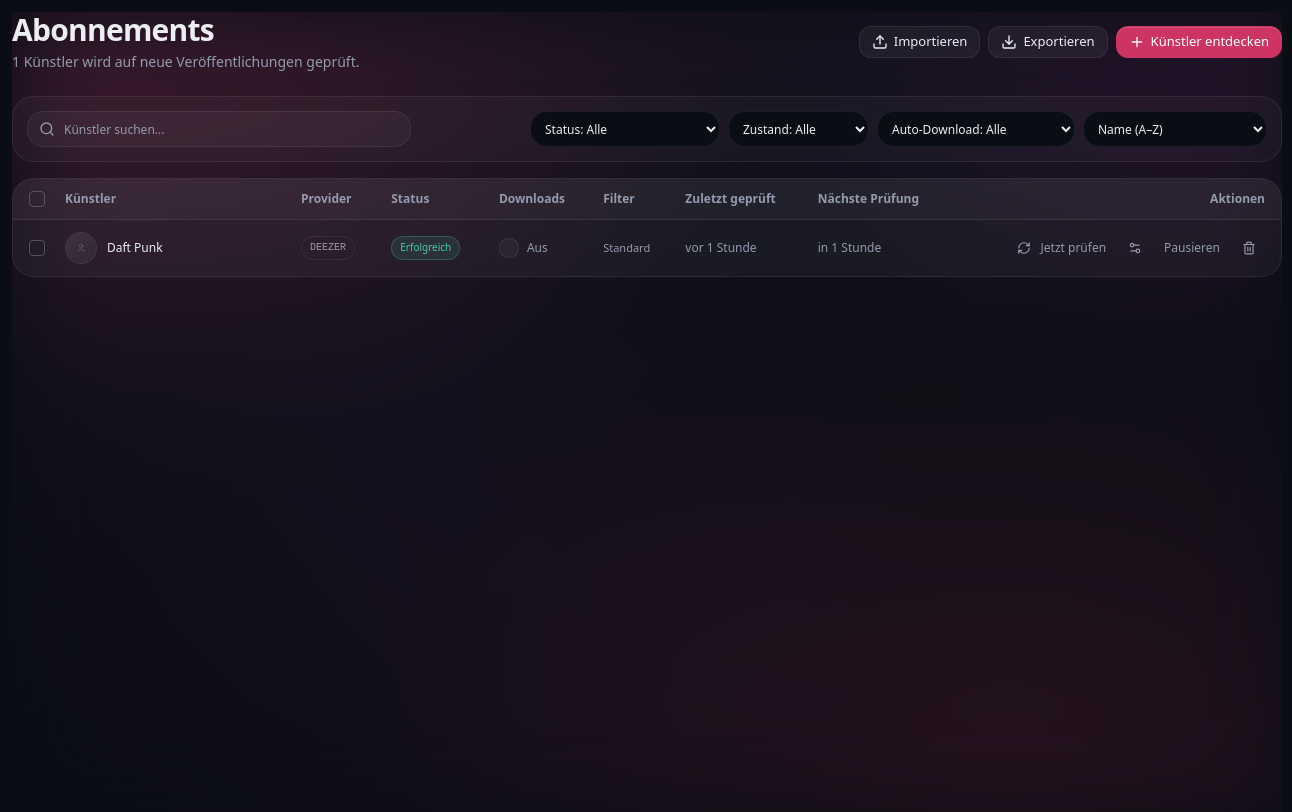
Test: Subscriptions page › switches auto download on
Click the checkbox at (509, 248), box [499, 238, 519, 258]
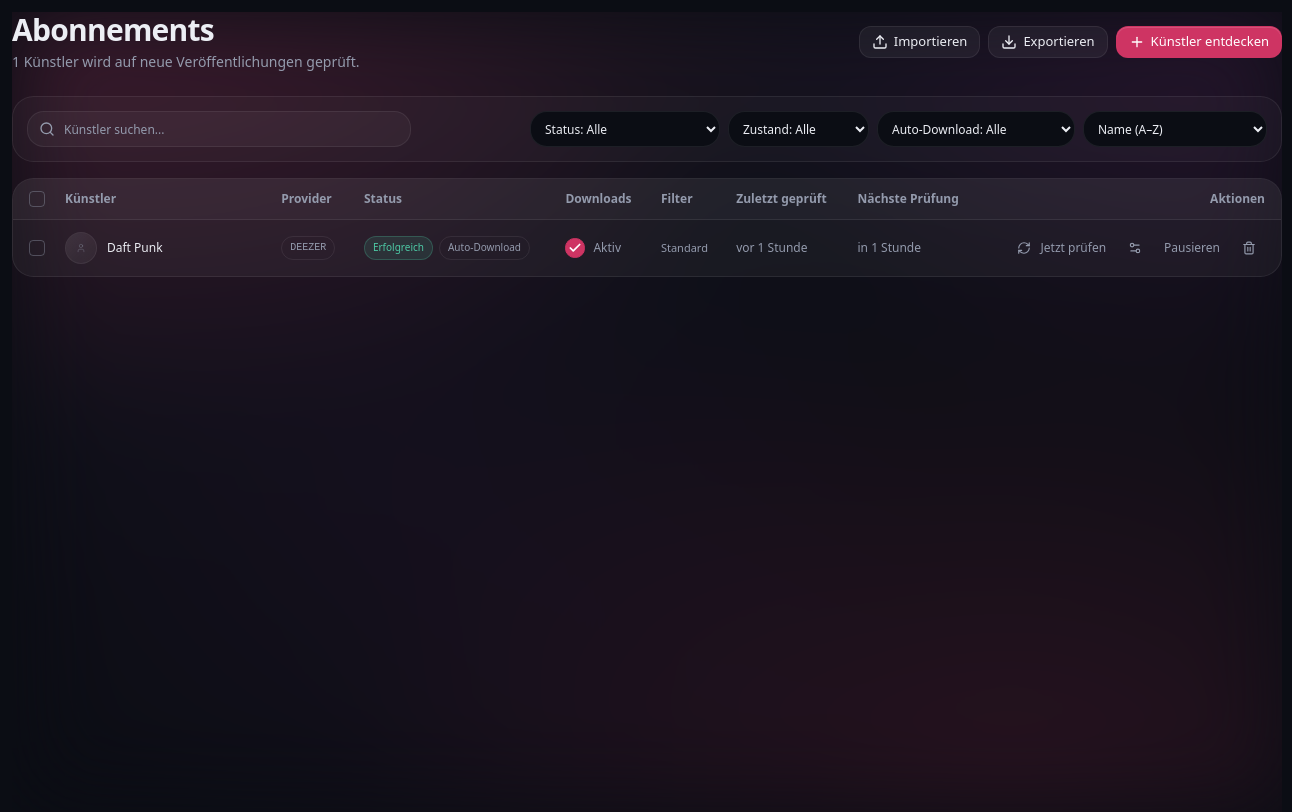
Now the text "Auto-Download" is shown, box [439, 236, 530, 260]
